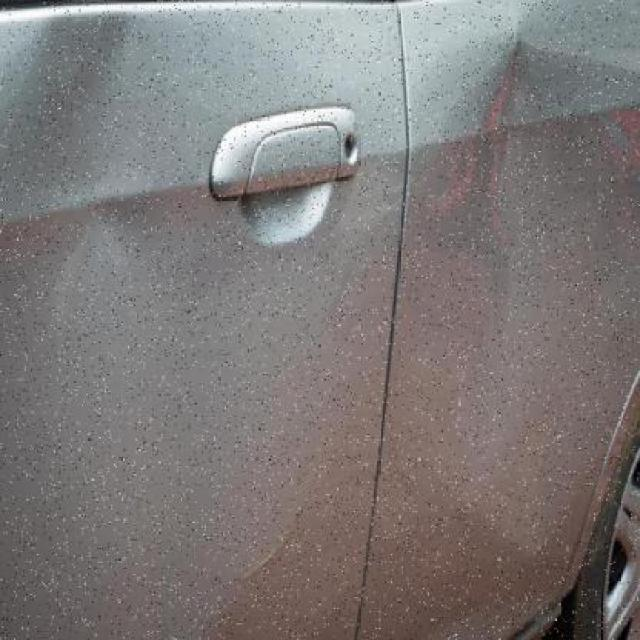doorouter-dent: (0, 6, 400, 638), (400, 6, 639, 638)
